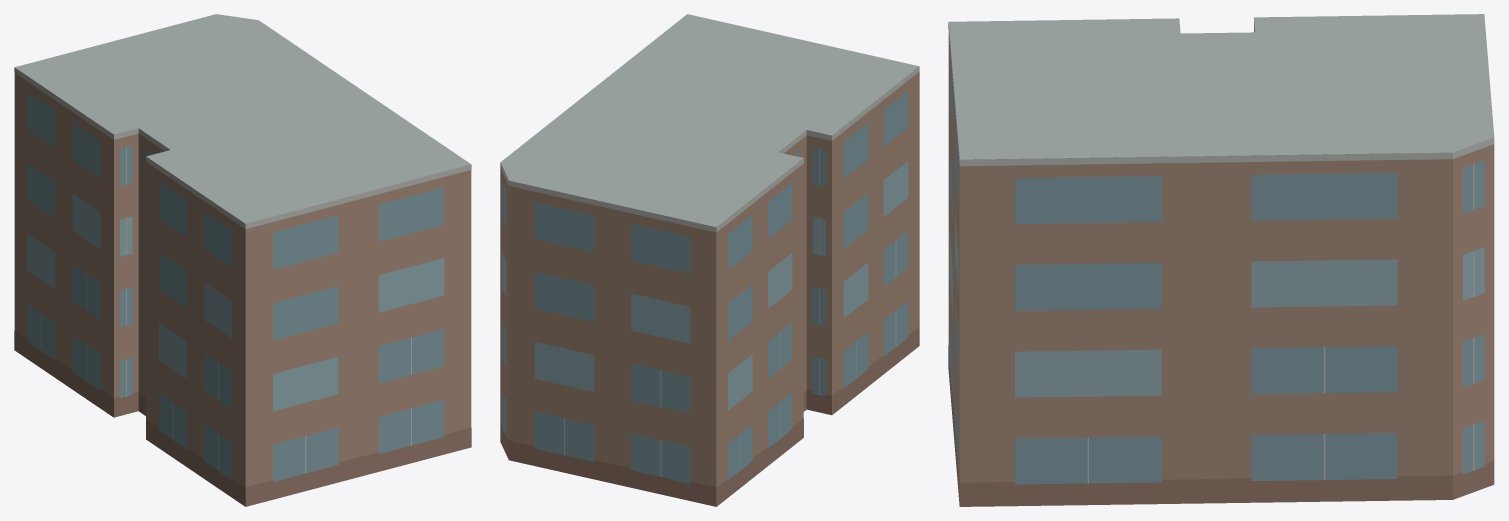
The model's file is survey-upis-32778901.glb.
3 views of the same model, side by side, from view 1: azimuth 30°, elevation 25°; view 2: azimuth 150°, elevation 25°; view 3: azimuth 270°, elevation 25° (orthographic). The views are drawn at different scales.
Visible parts, largest first — view 1: survey-upis-32778901.tmp; view 2: survey-upis-32778901.tmp; view 3: survey-upis-32778901.tmp.
Boxes of the visible parts, x1,y1,x2,y2 form: survey-upis-32778901.tmp: (14, 14, 471, 506); survey-upis-32778901.tmp: (500, 14, 919, 506); survey-upis-32778901.tmp: (948, 14, 1494, 506).
Size of the model in its own units: 11.61 by 12.9 by 18.39.
